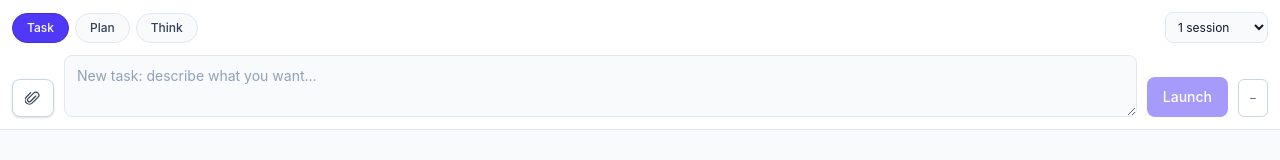
Test case: NewTaskBar › Launch button label reflects variant count
The image size is (1280, 160).
Expected: the button with test id "new-task-send" reads "Launch", [1147,77,1228,117]
Select "×4 variants" in the dropdown with test id "variant-count" at [1216, 28], box [1165,12,1268,43]
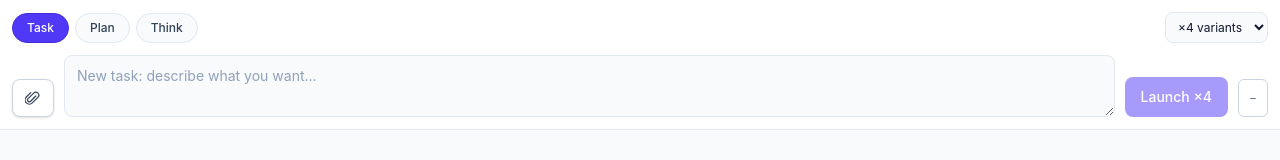
Now the button with test id "new-task-send" reads "Launch ×4", box [1125,77,1228,117]
